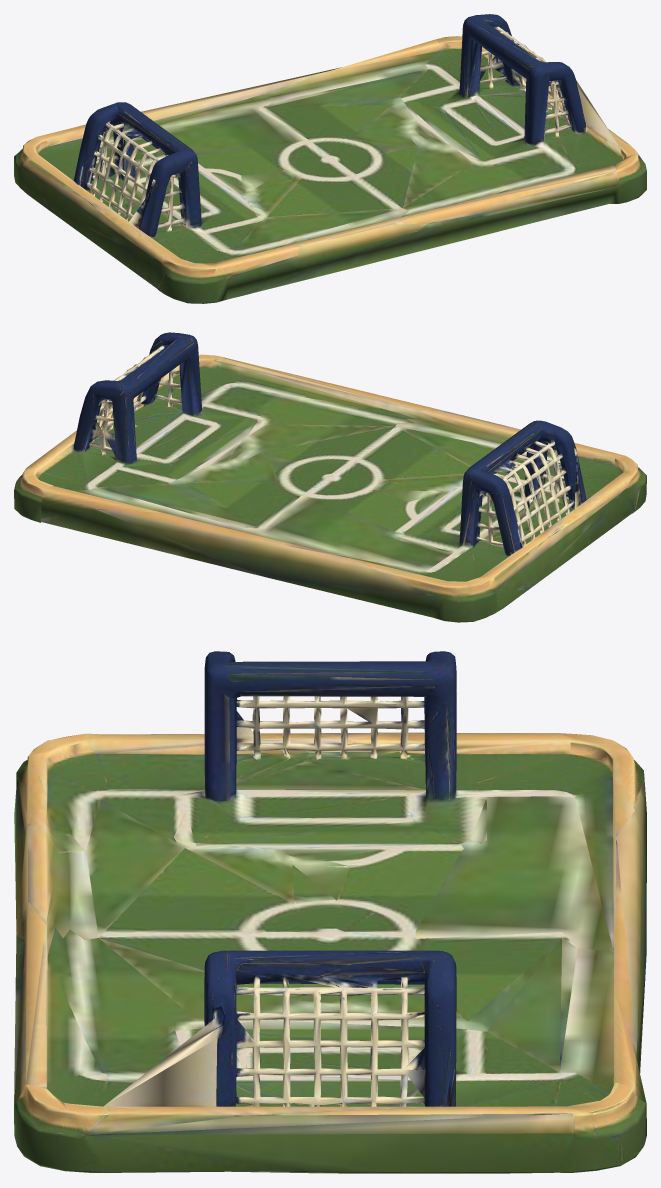
The model's file is soccer-field-512.glb.
3 views of the same model, one above another, from view 1: azimuth 30°, elevation 25°; view 2: azimuth 150°, elevation 25°; view 3: azimuth 270°, elevation 25° (orthographic). The views are drawn at different scales.
Size of the model in its own units: 1.9 by 0.3894 by 1.29.
Materials: 1 (1 with a texture image).
